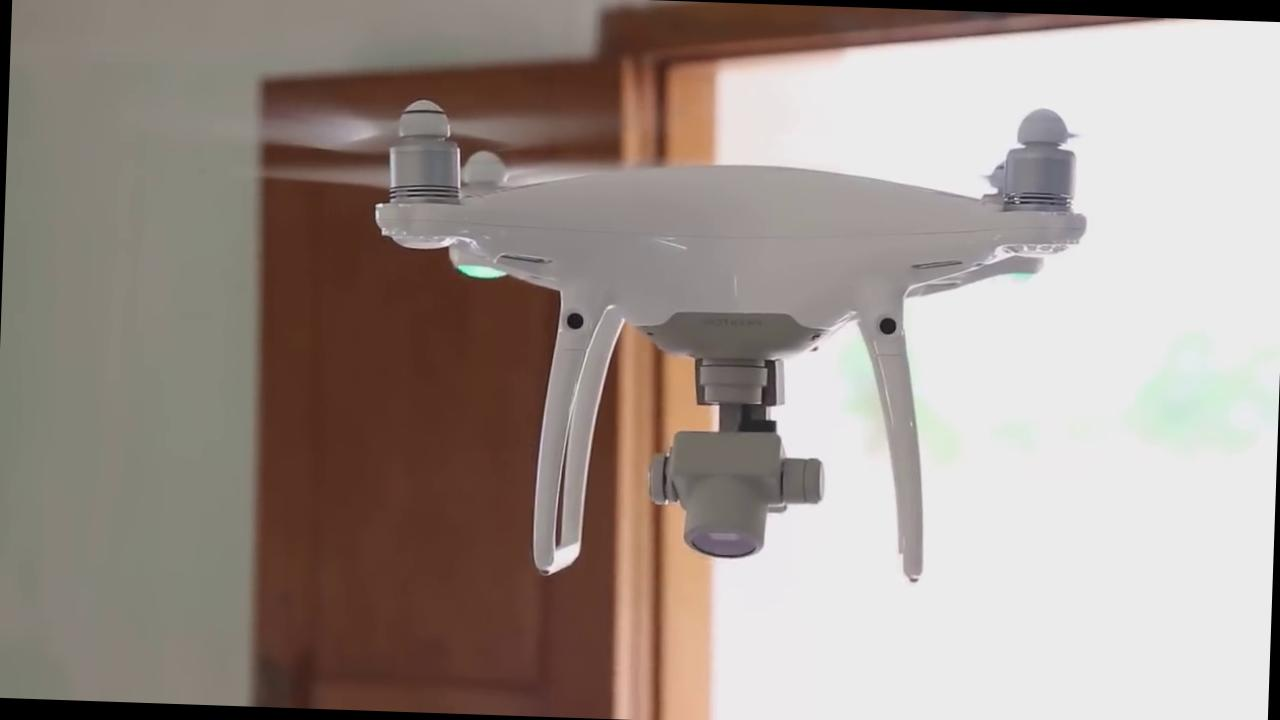drone: (248, 48, 1158, 436)
